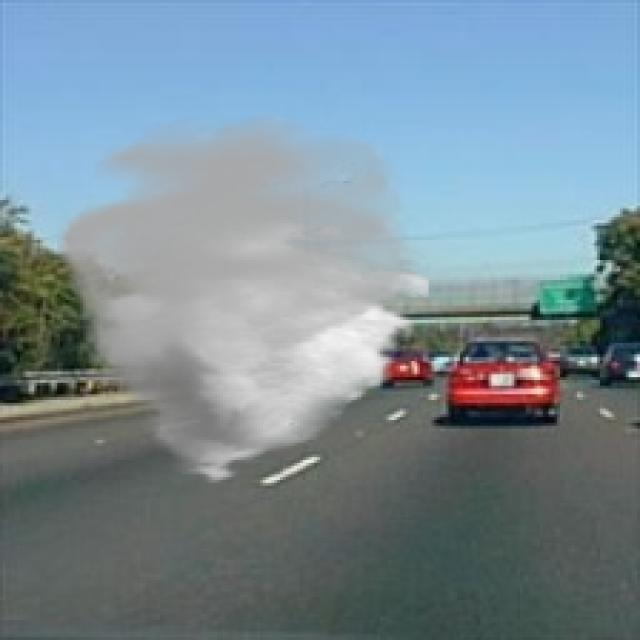smoke: (51, 114, 428, 486)
